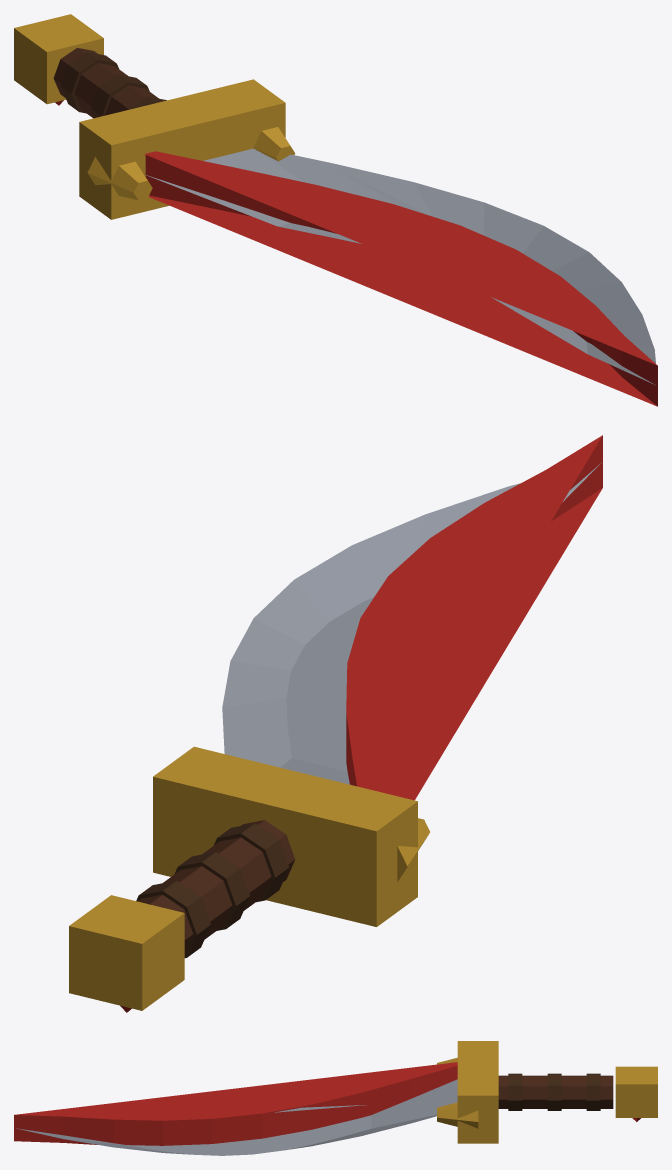
File: 02_Scimitar.glb
The picture shows the model from 3 angles, top to bottom: view 1: azimuth 30°, elevation 25°; view 2: azimuth 150°, elevation 25°; view 3: azimuth 270°, elevation 25°; orthographic projection. The views are drawn at different scales.
Visible parts, largest first — view 1: 02_Scimitar; view 2: 02_Scimitar; view 3: 02_Scimitar.
Boxes of the visible parts, x1,y1,x2,y2 form: 02_Scimitar: (14,14,657,406); 02_Scimitar: (69,435,602,1012); 02_Scimitar: (14,1041,657,1155).
Size of the model in its own units: 0.3726 by 0.1013 by 1.1.
